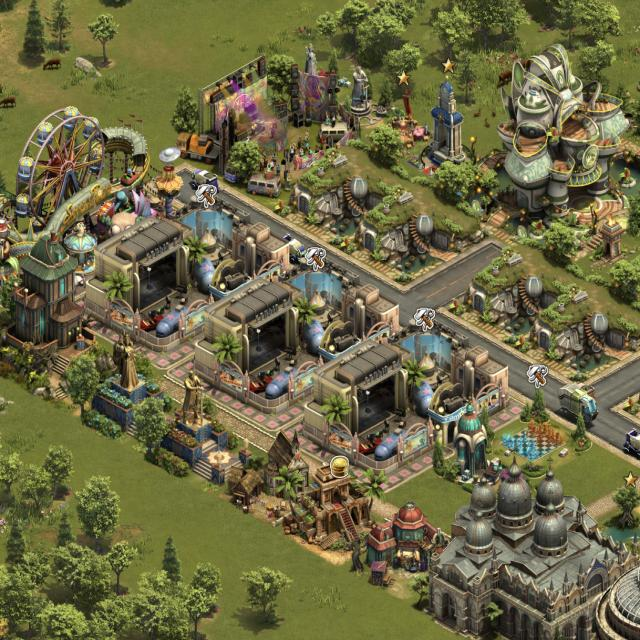coin: (329, 452, 354, 485)
star: (394, 65, 417, 96), (616, 467, 640, 493), (438, 54, 462, 78)
tool: (298, 243, 334, 279), (193, 180, 224, 214), (525, 359, 553, 393), (413, 307, 439, 336)
